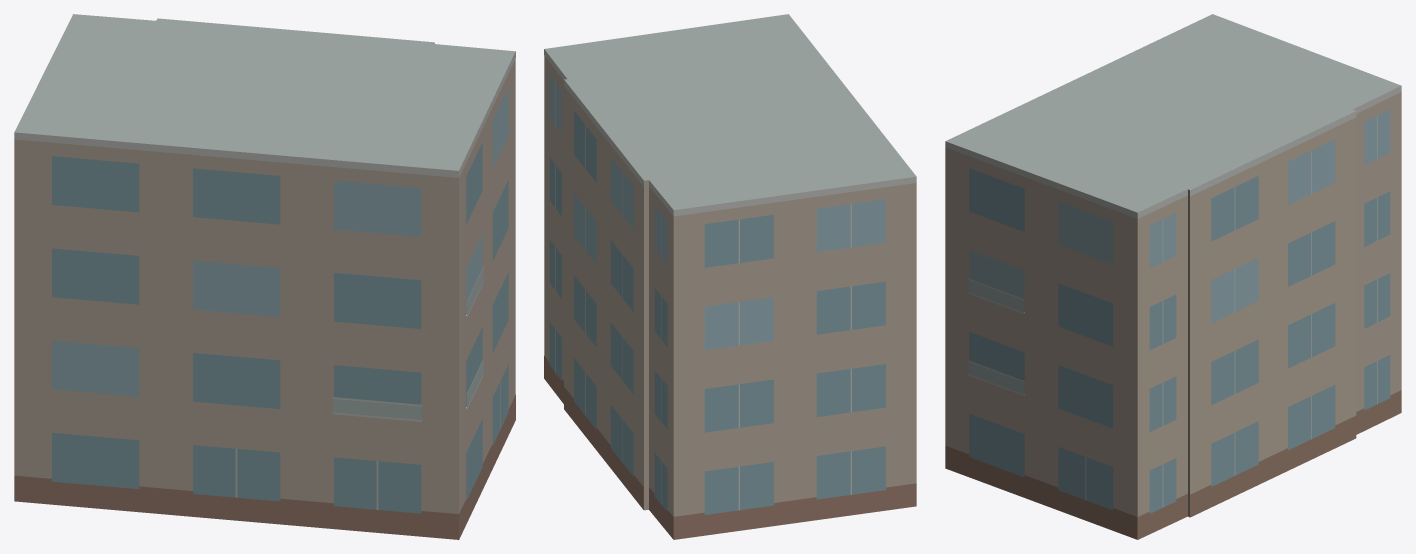
Rendered from survey-upis-32523438.glb.
3 renders of one model, left to right at view 1: azimuth 30°, elevation 25°; view 2: azimuth 150°, elevation 25°; view 3: azimuth 270°, elevation 25°, orthographic. The views are drawn at different scales.
Parts seen in each view (by area): view 1: survey-upis-32523438.tmp; view 2: survey-upis-32523438.tmp; view 3: survey-upis-32523438.tmp.
Part boxes in pixels (<box>): survey-upis-32523438.tmp: <box>14,14,515,539</box>; survey-upis-32523438.tmp: <box>544,14,916,539</box>; survey-upis-32523438.tmp: <box>945,14,1401,539</box>.
Bounding box in the file's own units: 16.81 × 12.9 × 16.31.
